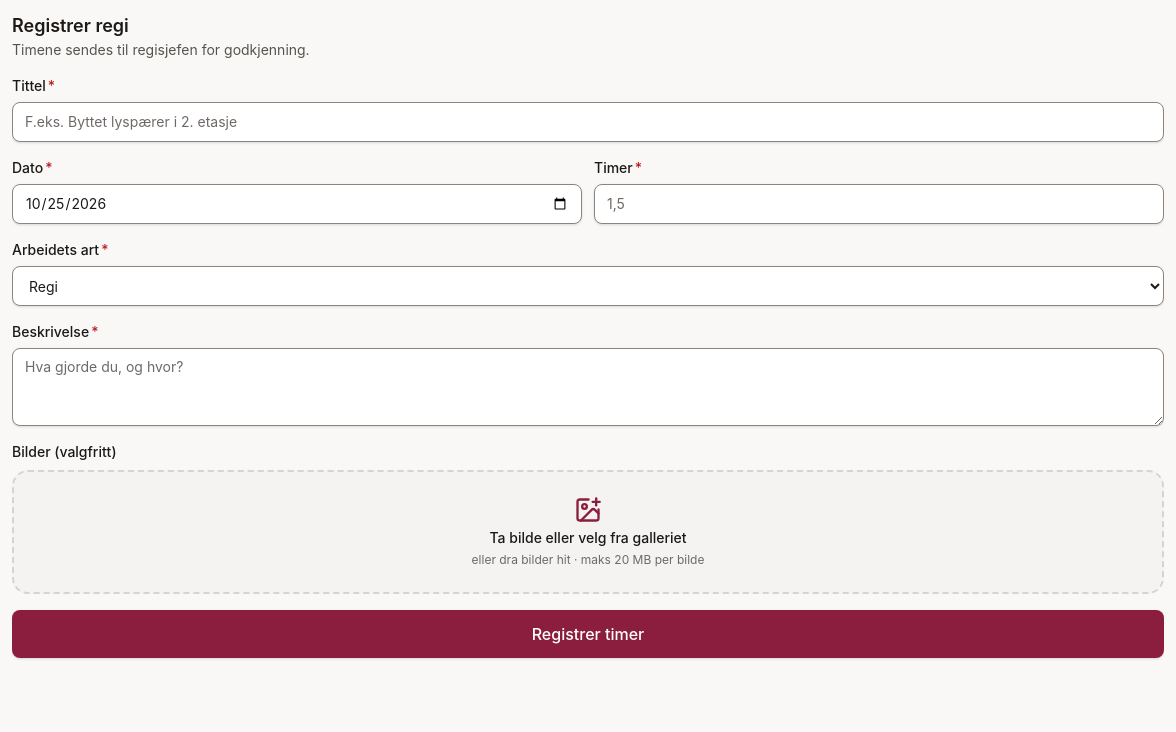
Test: WorkLogForm › submits the chosen calendar day and confirms
Type "  Byttet lyspærer  " into the field labelled "Tittel*" at (588, 122), box [12,102,1164,142]
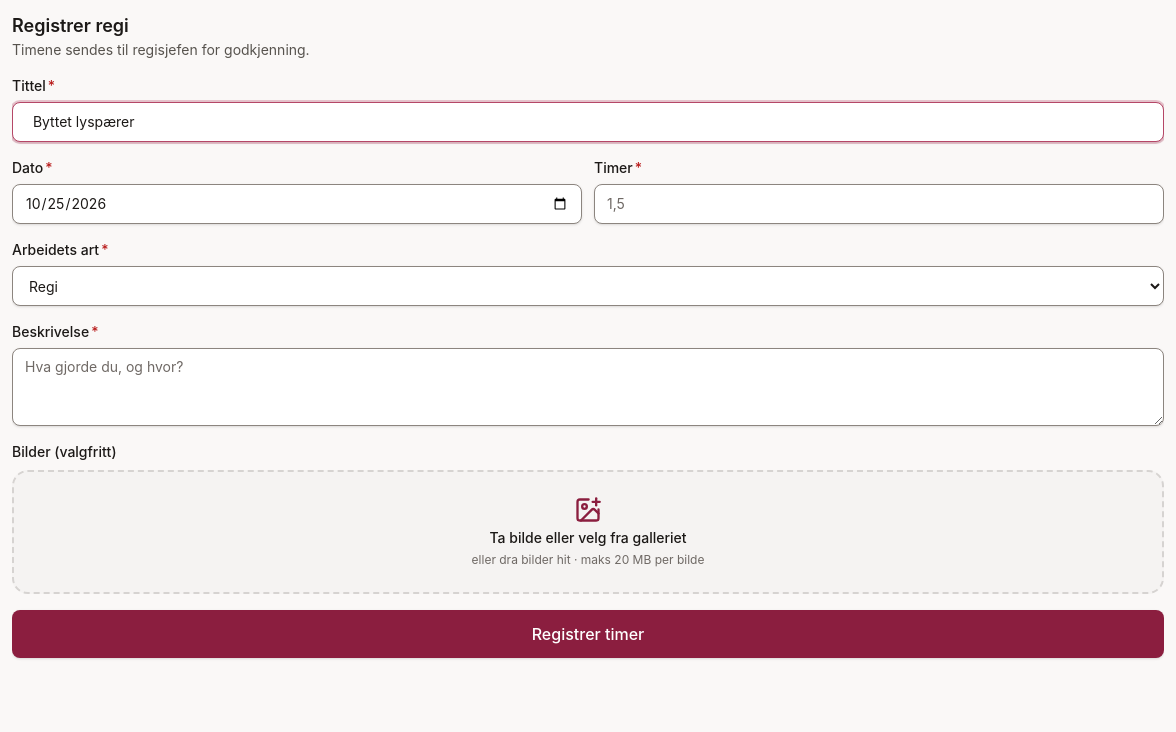
Type "2026-03-05" into the date field labelled "Dato*" at (297, 204), box [12,184,582,224]
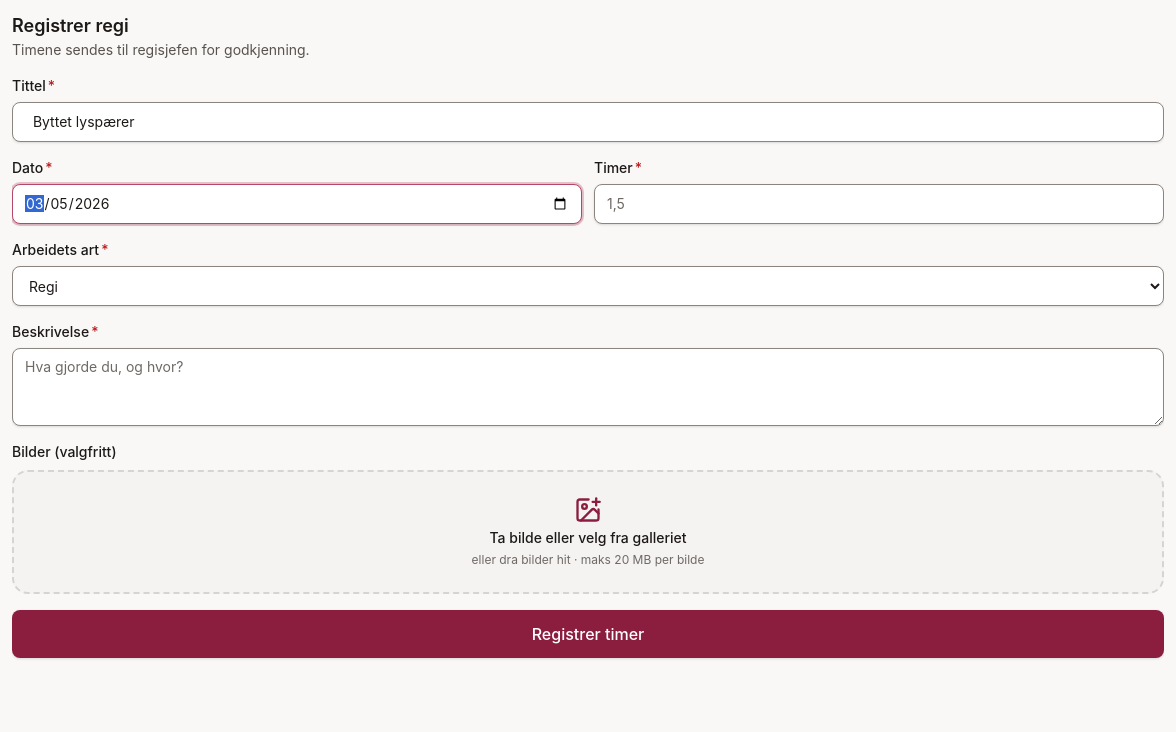
Type "1.5" into the number field labelled "Timer*" at (879, 204), box [594,184,1164,224]
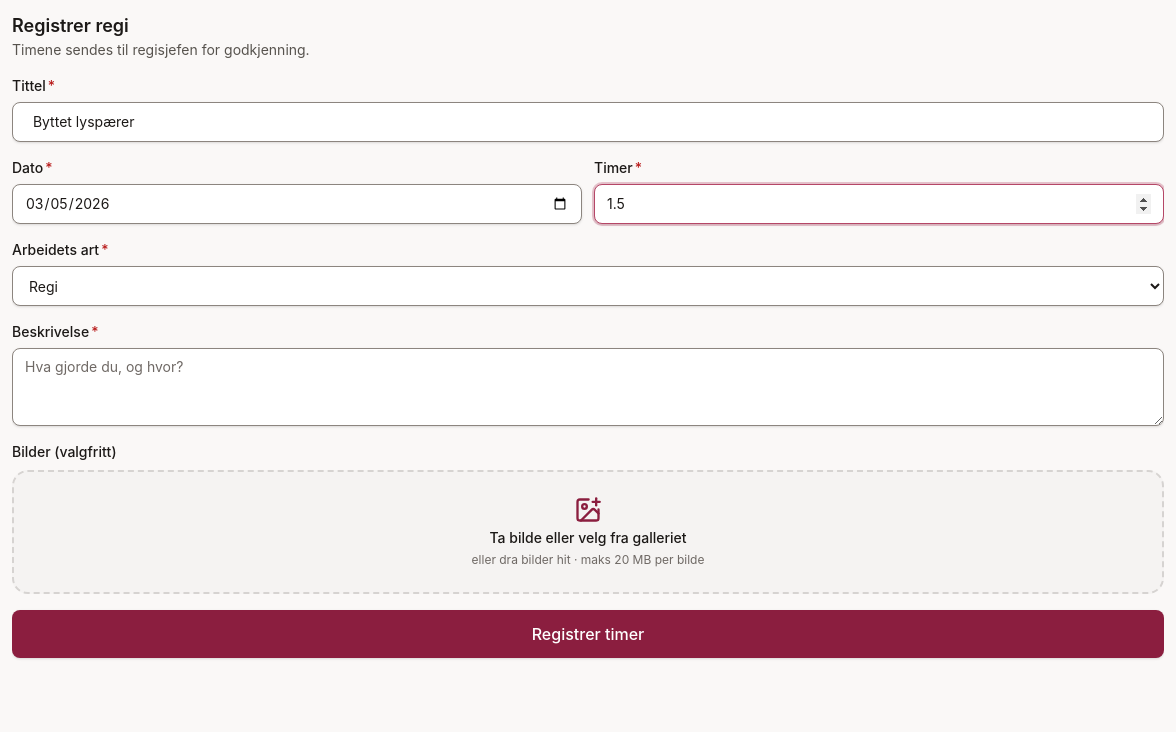
Type "Gangen i 2. etasje" into the text box labelled "Beskrivelse*" at (588, 387), box [12,348,1164,426]
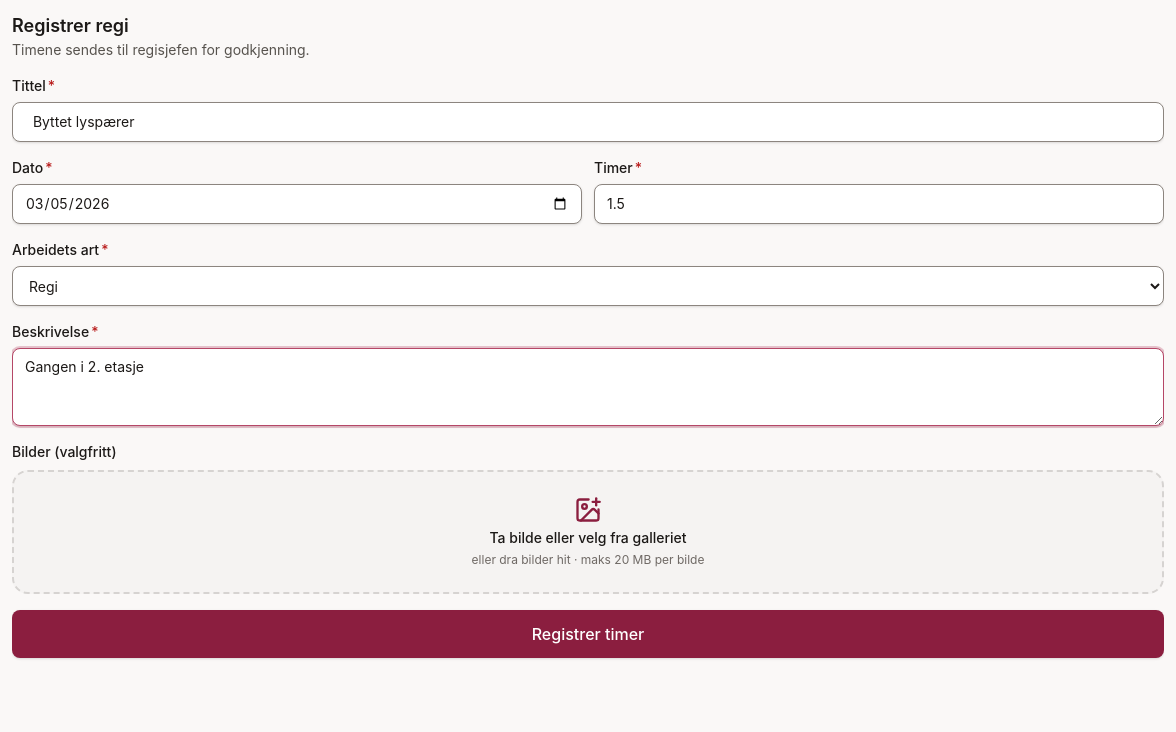
Click the button "Registrer timer" at (588, 634), box [12,610,1164,658]
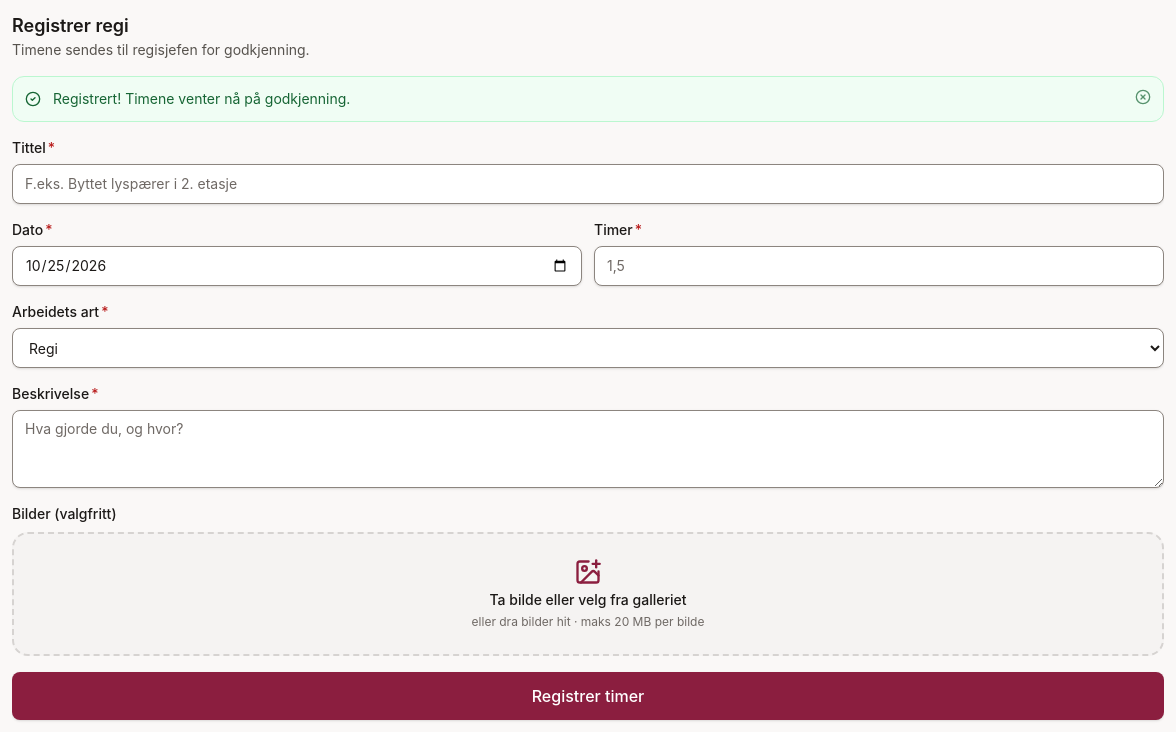
Result: the text "Registrert! Timene venter nå på godkjenning." is shown at [53,90,350,107]
Result: the field labelled "Tittel*" is empty at [12,164,1164,204]
